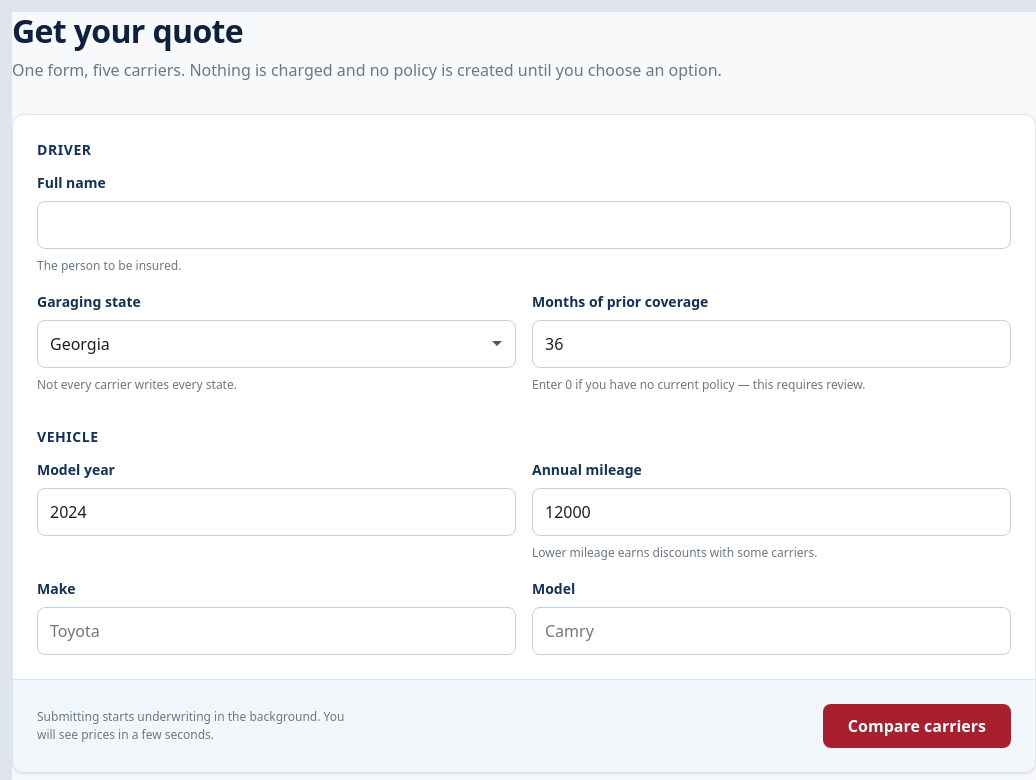
it: NewQuotePage › rejects an empty name without calling the API
Click the button "Compare carriers". click: coordinates (917, 726)
box: x1=823 y1=704 x2=1011 y2=748
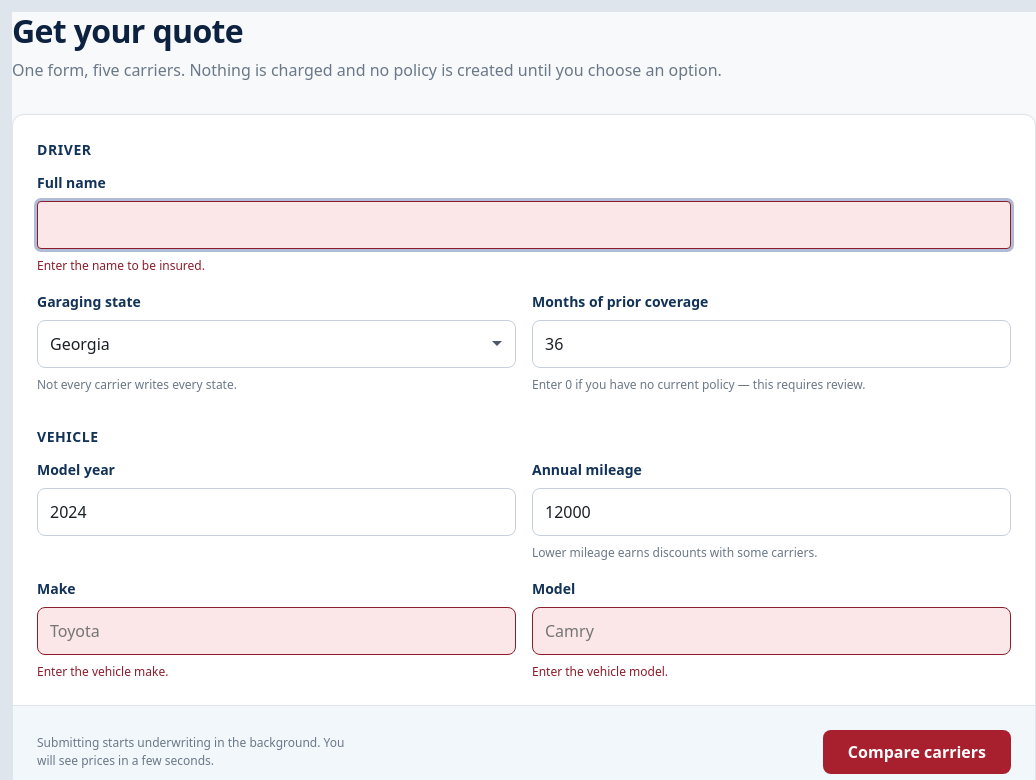
Expected: the text "Enter the name to be insured." is shown, x1=37 y1=257 x2=205 y2=274
